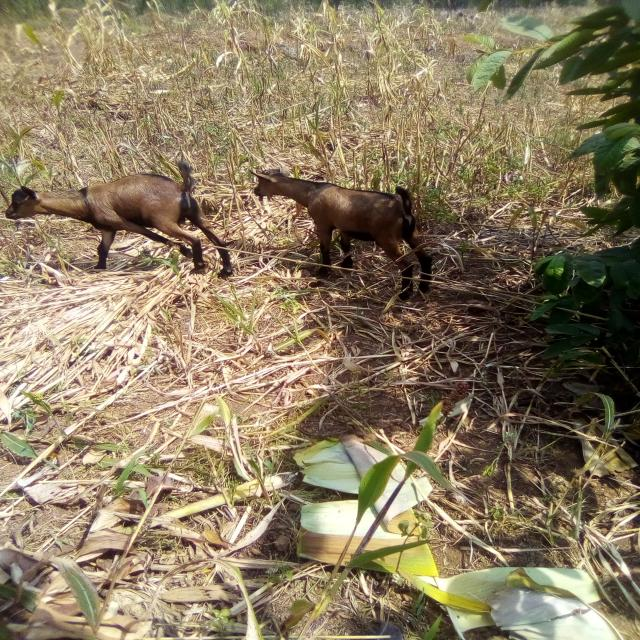goat: (235, 129, 475, 354)
